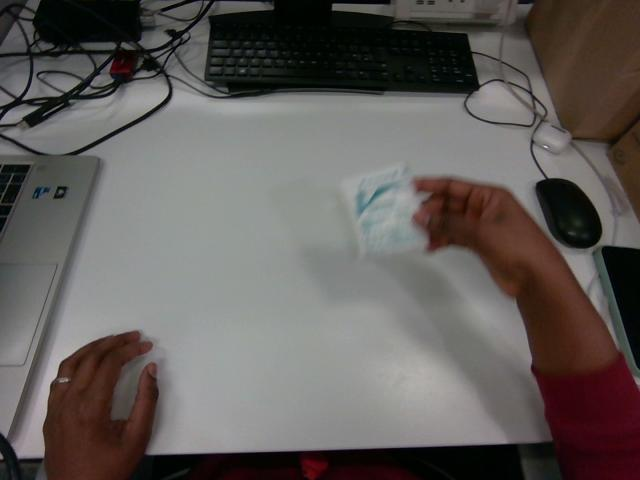gauze: (341, 164, 425, 254)
